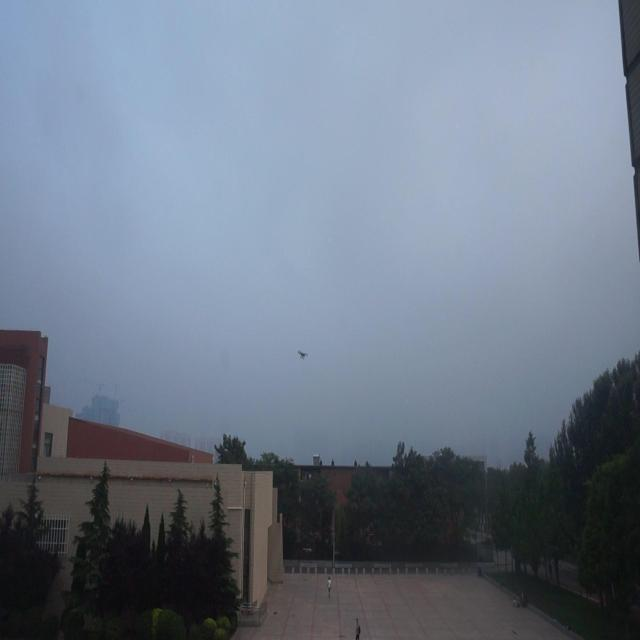drone: (296, 346, 307, 360)
